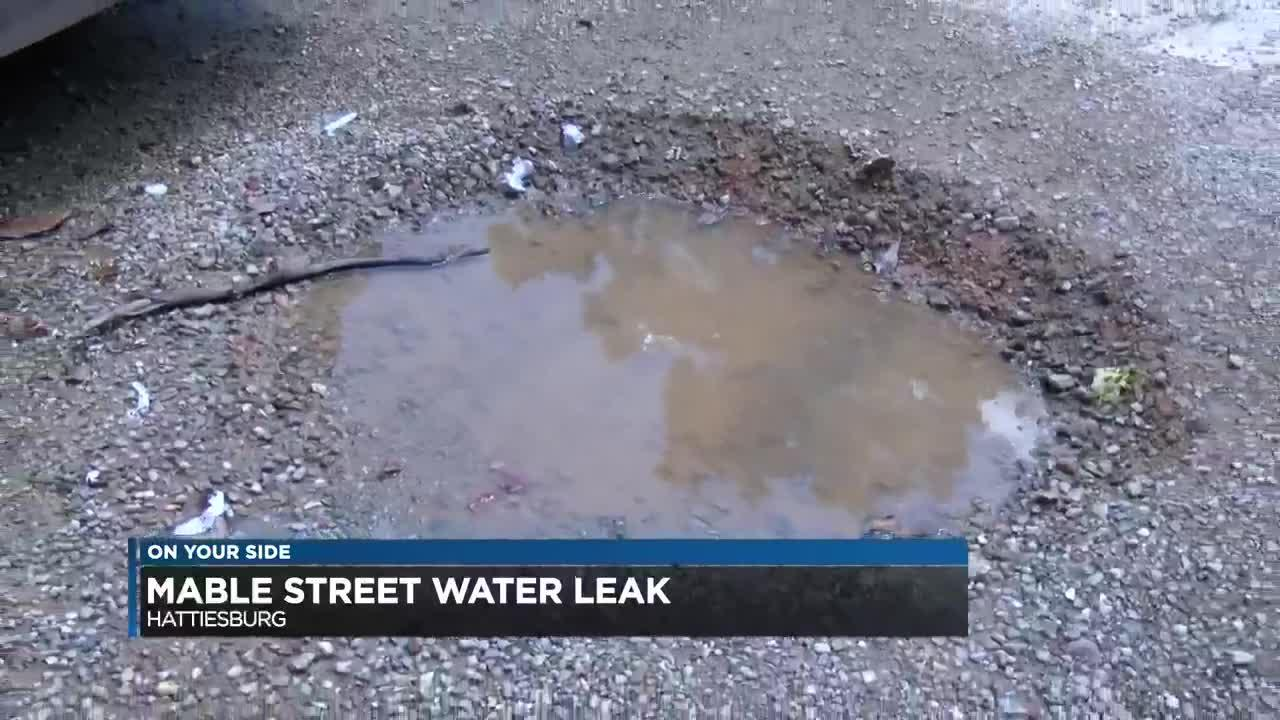water_leak: (68, 189, 1050, 543)
